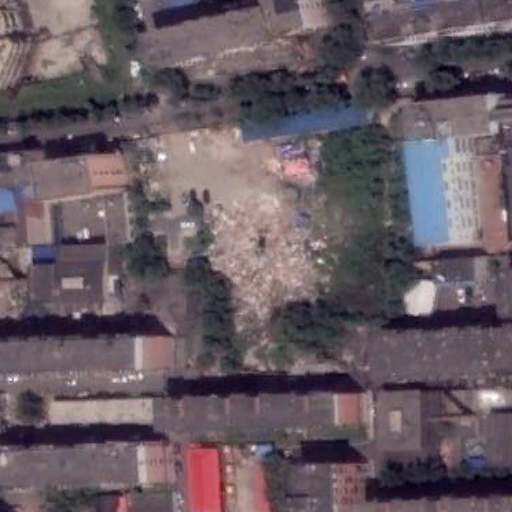msw: (199, 194, 332, 314)
